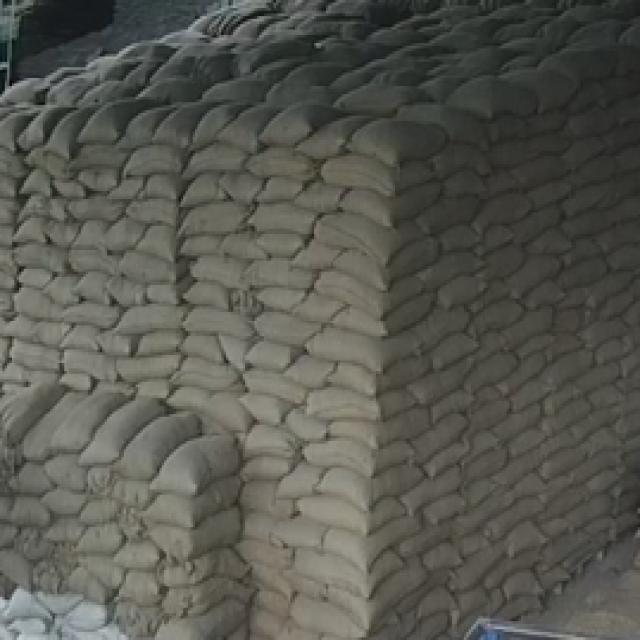Sack-2: (148, 433, 255, 491), (84, 398, 163, 458), (324, 325, 415, 374), (22, 394, 95, 454), (112, 417, 185, 474), (257, 306, 327, 362), (155, 483, 232, 532), (330, 215, 414, 257), (236, 338, 306, 384), (316, 278, 396, 318), (424, 325, 488, 375), (359, 120, 437, 160), (246, 363, 308, 412), (342, 193, 443, 223), (148, 522, 232, 558), (490, 303, 554, 350), (230, 388, 298, 431), (324, 500, 404, 535), (406, 414, 462, 463), (454, 78, 526, 115), (116, 254, 186, 292), (307, 444, 403, 471), (254, 260, 320, 299), (224, 110, 282, 154), (118, 299, 193, 332), (404, 363, 464, 404), (232, 426, 304, 460), (360, 566, 412, 613), (341, 252, 408, 288), (323, 531, 395, 564), (507, 70, 581, 102), (399, 467, 456, 507), (230, 451, 296, 484), (421, 192, 485, 226), (123, 199, 185, 234), (492, 449, 542, 492), (78, 523, 136, 560), (418, 253, 474, 291), (228, 536, 298, 566), (406, 254, 486, 280), (452, 549, 504, 589), (226, 477, 285, 512), (254, 228, 313, 262), (540, 348, 590, 388), (337, 391, 397, 424), (106, 354, 192, 377), (426, 384, 473, 426), (419, 102, 475, 137), (70, 272, 132, 303), (324, 474, 404, 498), (420, 440, 470, 478), (395, 515, 445, 553), (346, 163, 419, 189), (492, 353, 538, 393), (417, 308, 473, 340), (120, 149, 188, 175), (128, 331, 188, 360), (429, 278, 485, 309), (244, 610, 310, 636), (558, 258, 608, 292), (587, 314, 629, 354), (264, 198, 318, 229), (563, 207, 608, 244), (238, 590, 302, 616), (3, 391, 50, 426), (89, 101, 129, 142), (126, 175, 188, 201), (48, 447, 87, 488), (239, 569, 293, 598), (273, 106, 316, 142), (441, 161, 488, 193), (48, 247, 126, 266), (46, 482, 89, 516), (74, 163, 122, 193), (506, 512, 534, 563), (47, 304, 131, 321), (123, 230, 184, 253), (426, 485, 461, 525), (64, 322, 104, 357), (344, 424, 401, 448), (11, 495, 58, 524), (222, 173, 262, 206), (177, 171, 224, 199), (145, 222, 186, 254), (265, 282, 310, 311), (10, 469, 55, 498), (130, 376, 180, 402), (512, 257, 554, 287), (588, 361, 622, 398), (567, 412, 601, 449), (434, 227, 488, 249), (574, 449, 607, 485), (602, 262, 635, 298), (504, 522, 536, 558), (46, 172, 93, 196), (20, 167, 55, 199), (535, 513, 571, 544), (231, 515, 284, 536), (128, 288, 186, 307), (162, 110, 196, 142), (414, 586, 450, 616), (539, 442, 576, 471), (347, 370, 391, 394), (424, 545, 459, 575), (562, 286, 595, 317), (530, 181, 564, 211), (84, 494, 118, 523), (256, 178, 297, 202), (504, 427, 546, 450), (11, 221, 53, 244), (201, 110, 234, 138), (562, 56, 613, 74), (74, 222, 112, 246), (550, 385, 588, 409), (306, 188, 336, 218), (568, 236, 593, 272), (128, 114, 159, 143), (429, 544, 456, 576), (608, 472, 634, 502), (22, 190, 52, 216), (579, 162, 609, 188), (582, 492, 614, 516), (46, 216, 75, 242), (568, 504, 594, 532)
